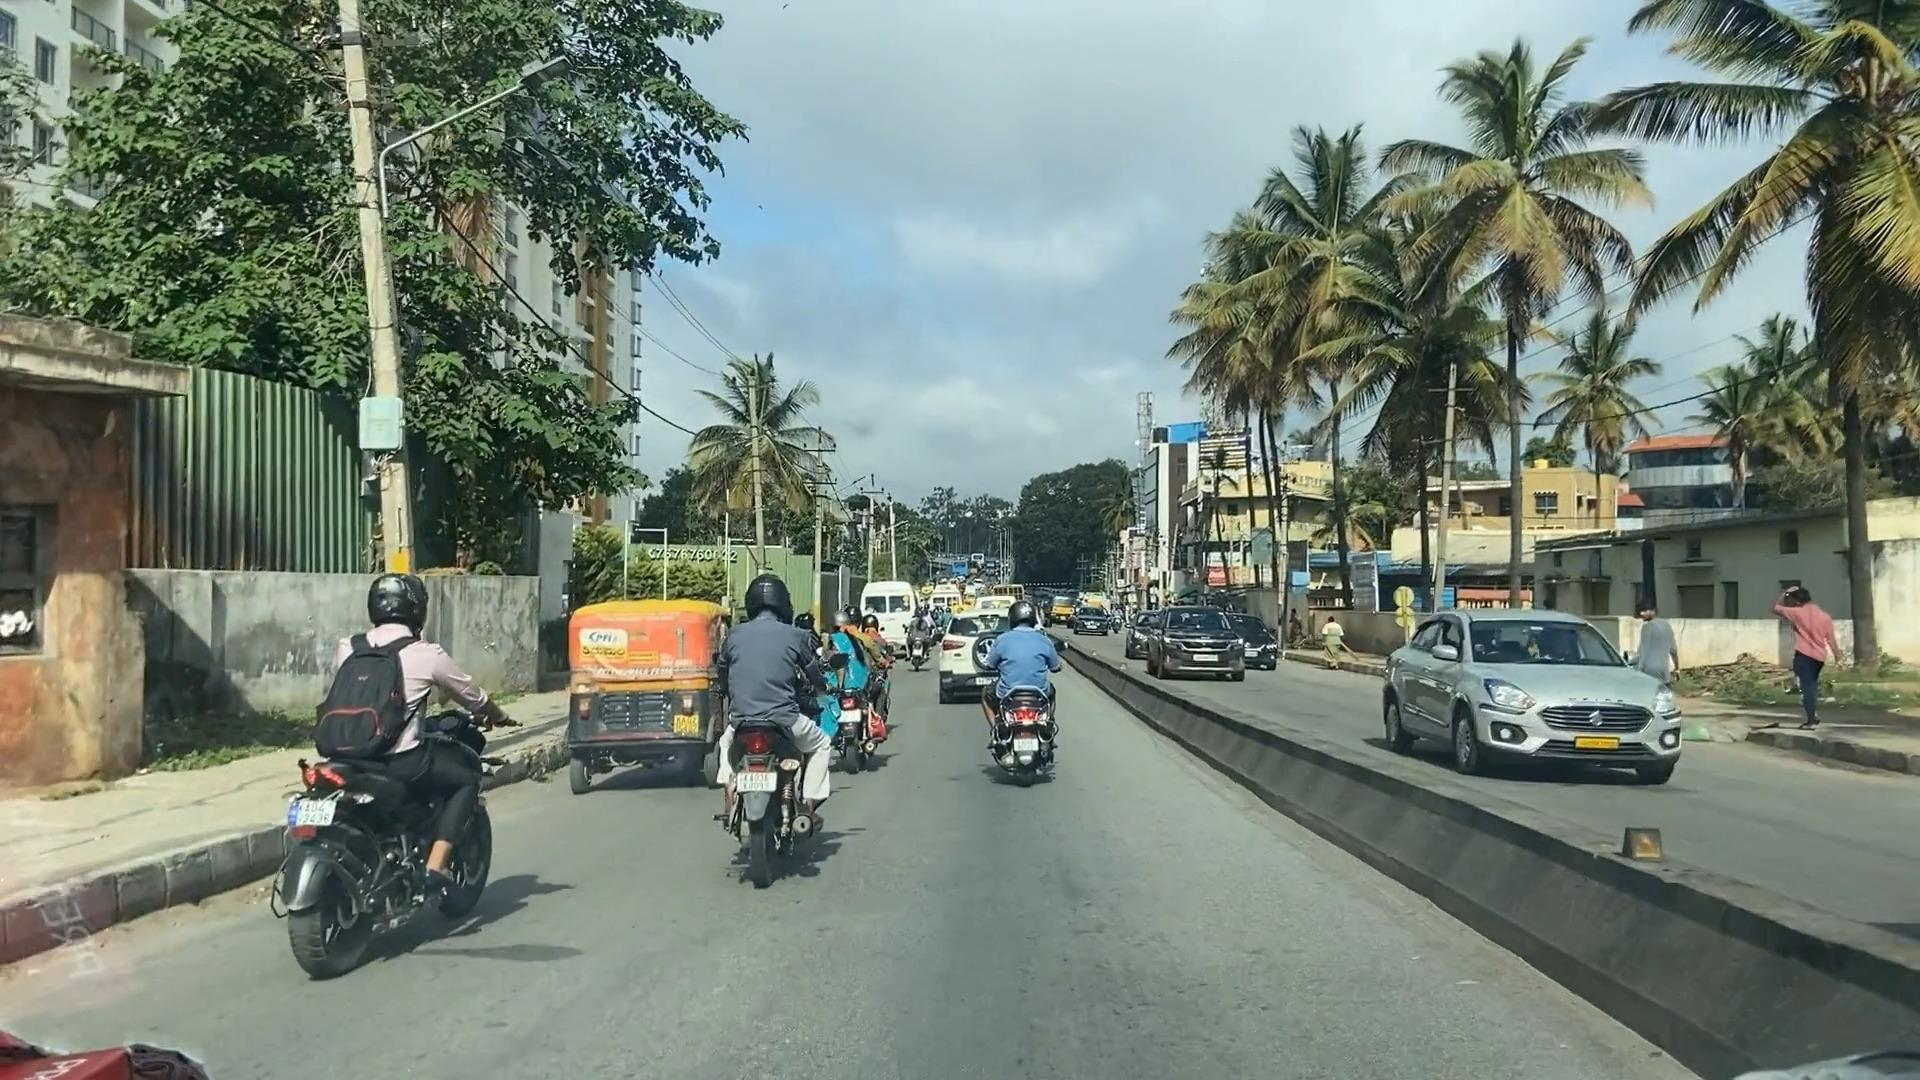LMV: (313, 580, 479, 945), (716, 574, 811, 869), (550, 618, 711, 787), (975, 604, 1059, 785)
